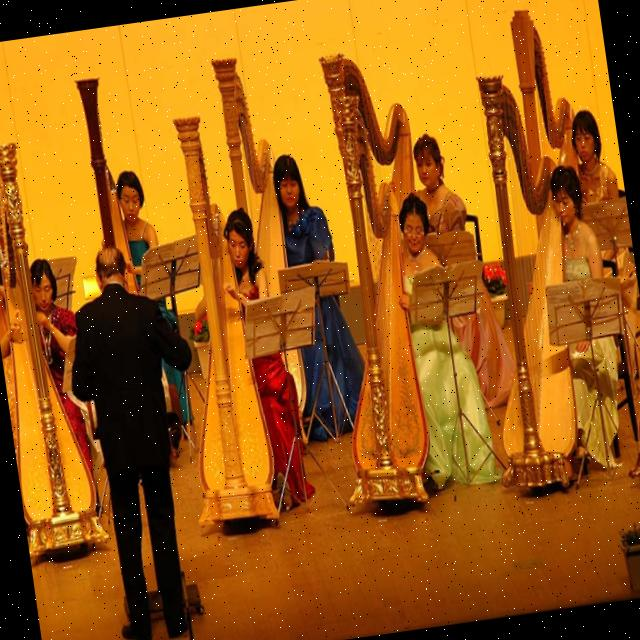harp: (446, 56, 595, 490), (297, 112, 444, 504), (146, 105, 279, 524), (0, 134, 114, 565), (198, 48, 314, 430), (310, 50, 421, 208), (501, 0, 584, 193)
